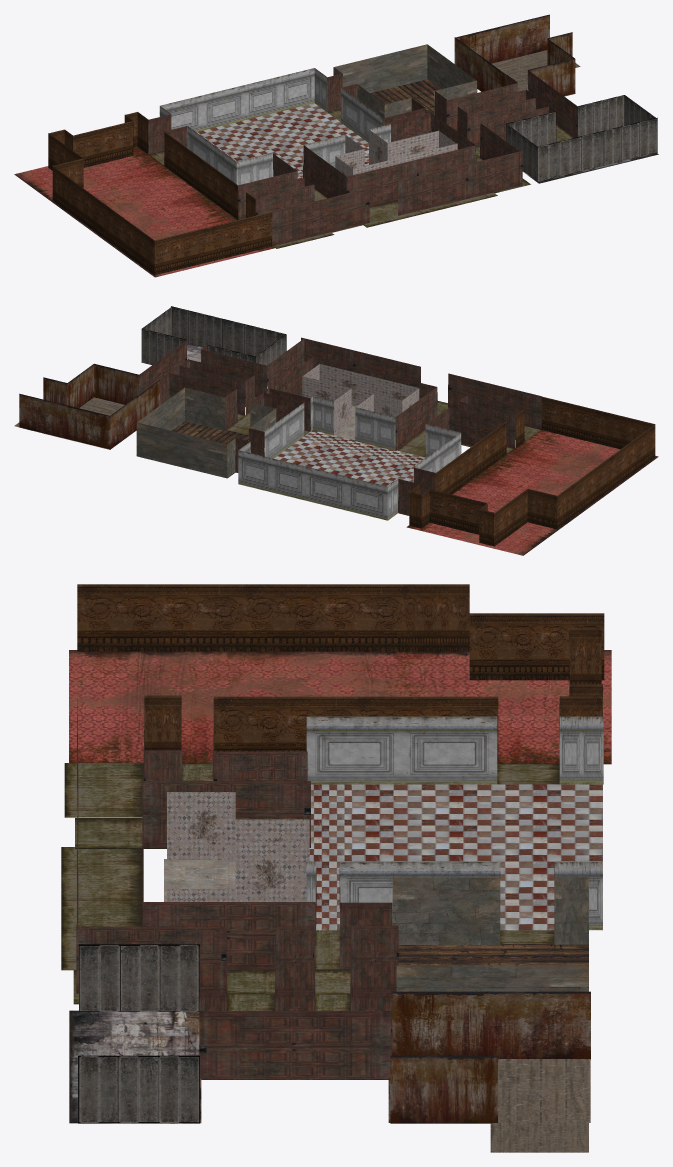
File: Walls&Floors.fbx
3 renders of one model, top to bottom at view 1: azimuth 30°, elevation 25°; view 2: azimuth 150°, elevation 25°; view 3: azimuth 270°, elevation 25°, orthographic. The views are drawn at different scales.
Parts seen in each view (by area): view 1: Plane.062, Walls.006, Plane.037, Plane.049, Plane.020, Plane.021, Walls.007, Plane.041, Plane.003, Plane.004, Plane.010, Walls.008 (+51 smaller); view 2: Plane.062, Plane.037, Plane.049, Plane.020, Plane.021, Walls.006, Plane.003, Plane.010, Plane.043, Plane.048, Plane.041, Plane.046 (+57 smaller); view 3: Plane.062, Walls.022, Plane.048, Plane.018, Plane.005, Plane.006, Plane.044, Plane.040, Plane.009, Plane.047, Plane.034, Plane.084 (+49 smaller).
Boxes of the visible parts, bbox=[...] form: Plane.062: bbox=[14, 147, 274, 277]; Walls.006: bbox=[272, 188, 369, 246]; Plane.037: bbox=[333, 44, 427, 92]; Plane.049: bbox=[455, 14, 549, 64]; Plane.020: bbox=[159, 85, 245, 133]; Plane.021: bbox=[245, 68, 314, 119]; Walls.007: bbox=[398, 164, 468, 215]; Plane.041: bbox=[537, 131, 603, 181]; Plane.003: bbox=[209, 212, 272, 261]; Plane.004: bbox=[154, 227, 209, 275]; Plane.010: bbox=[73, 121, 132, 167]; Walls.008: bbox=[468, 150, 522, 198]; Plane.062: bbox=[406, 430, 658, 555]; Plane.037: bbox=[136, 422, 227, 478]; Plane.049: bbox=[19, 393, 110, 449]; Plane.020: bbox=[305, 466, 387, 520]; Plane.021: bbox=[238, 450, 305, 500]; Walls.006: bbox=[448, 373, 541, 429]; Plane.003: bbox=[541, 396, 602, 444]; Plane.010: bbox=[429, 489, 487, 534]; Plane.043: bbox=[171, 306, 222, 347]; Plane.048: bbox=[109, 380, 159, 449]; Plane.041: bbox=[222, 318, 286, 356]; Plane.046: bbox=[94, 363, 139, 404]; Plane.062: bbox=[69, 650, 611, 764]; Walls.022: bbox=[199, 1011, 391, 1079]; Plane.048: bbox=[390, 991, 590, 1059]; Plane.018: bbox=[306, 716, 497, 784]; Plane.005: bbox=[77, 584, 239, 651]; Plane.006: bbox=[239, 584, 401, 651]; Plane.044: bbox=[78, 1055, 199, 1123]; Plane.040: bbox=[79, 944, 199, 1011]; Plane.009: bbox=[469, 613, 604, 680]; Plane.047: bbox=[390, 1055, 497, 1123]; Plane.034: bbox=[392, 877, 500, 944]; Plane.084: bbox=[69, 1010, 201, 1123].
Size of the model in its own units: 67.65 by 4.42 by 31.29.
